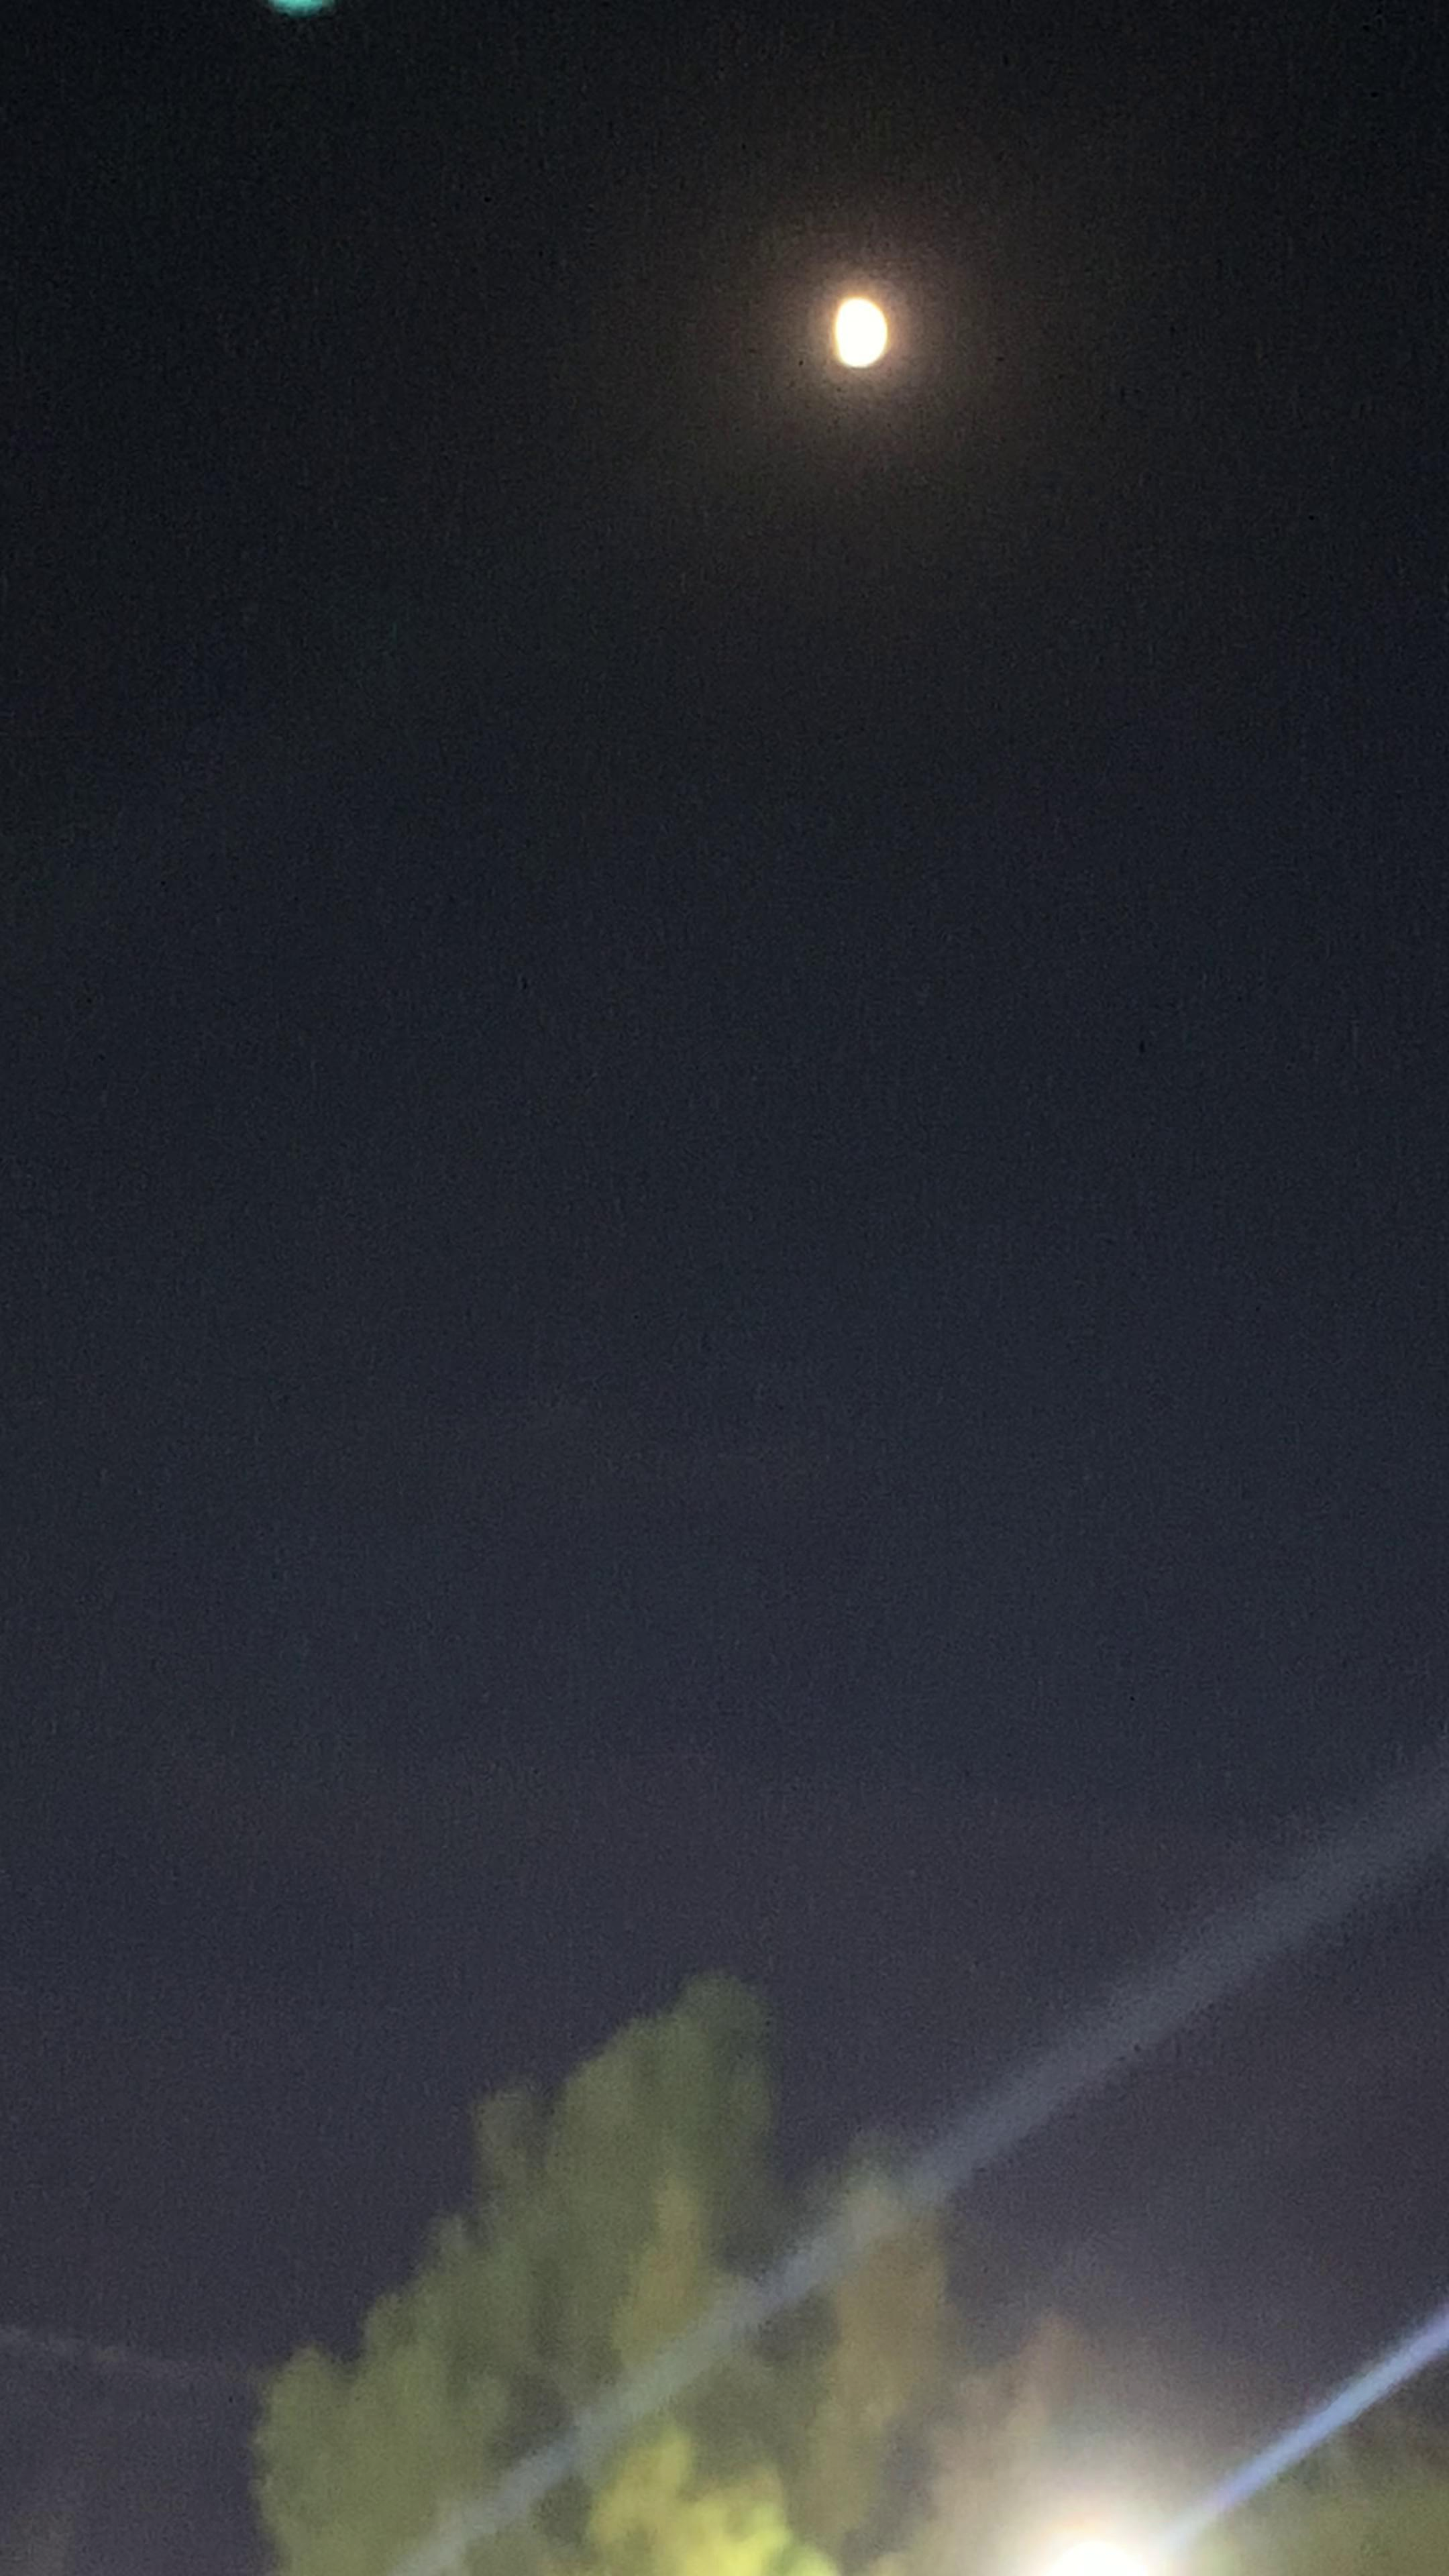moon: (796, 267, 934, 396)
